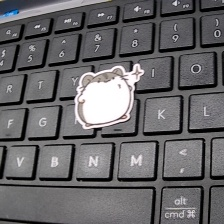mouse: (72, 63, 147, 130)
